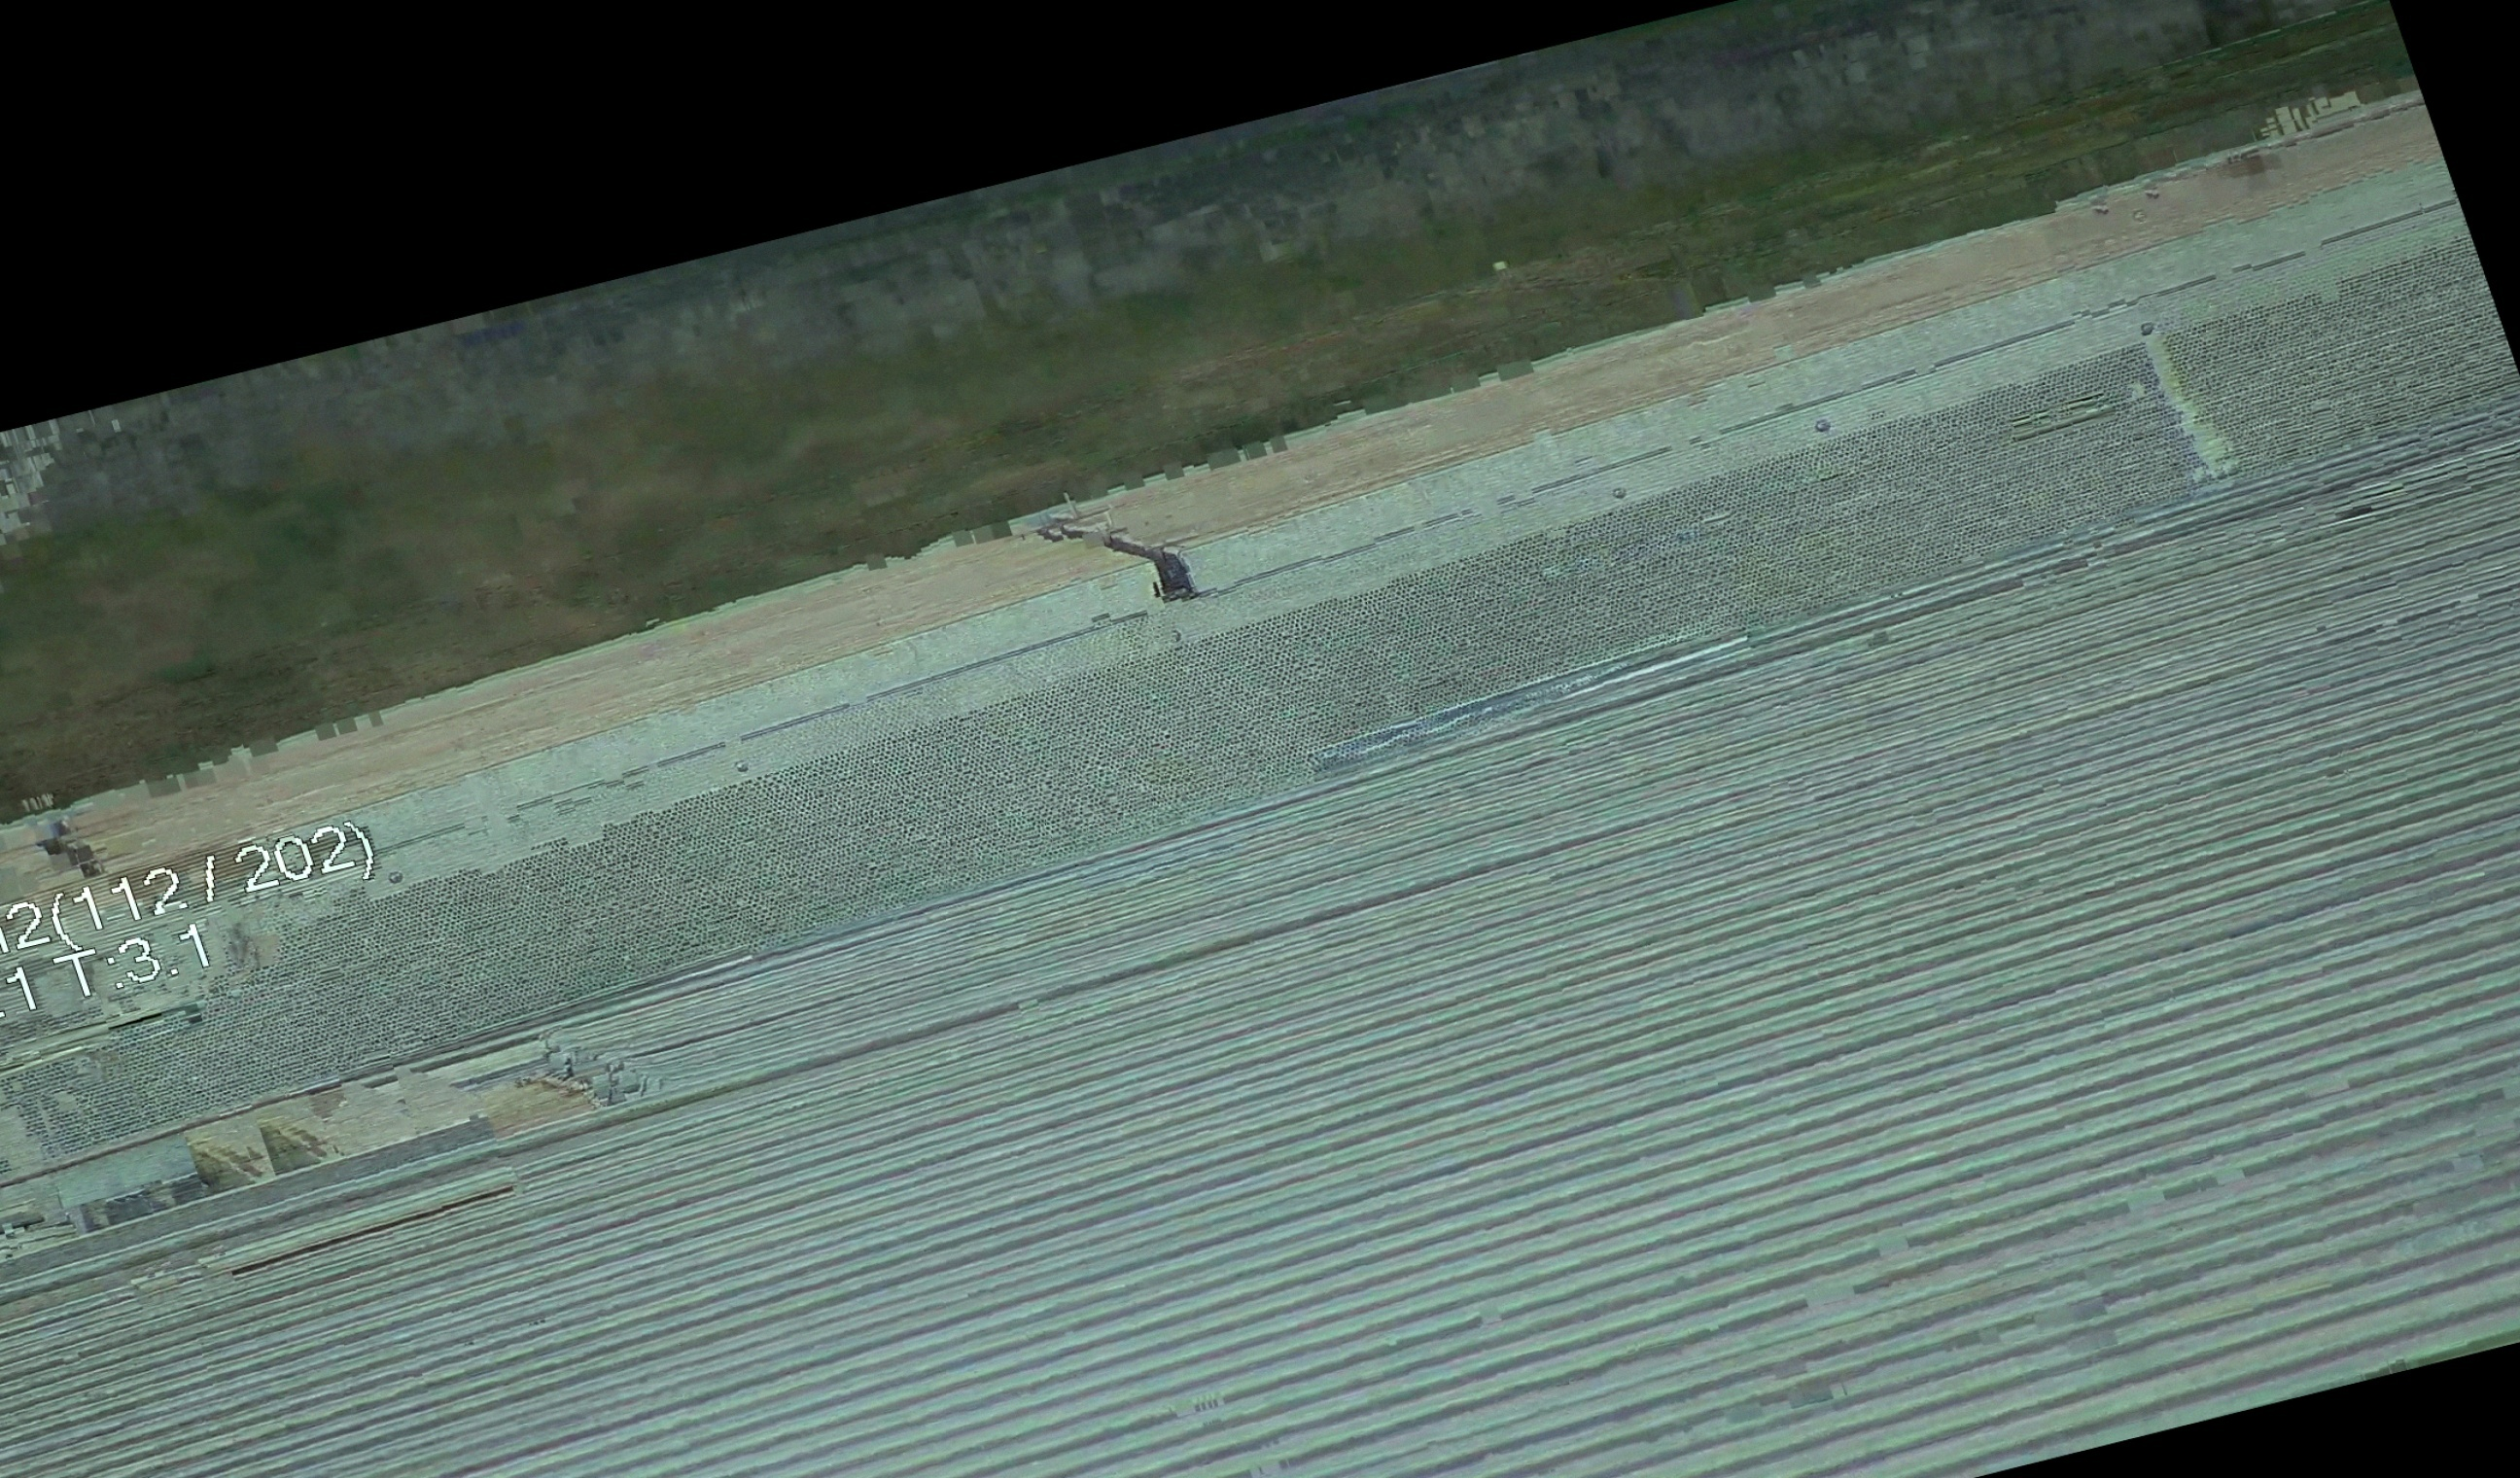Other: (1009, 459, 1213, 628)
